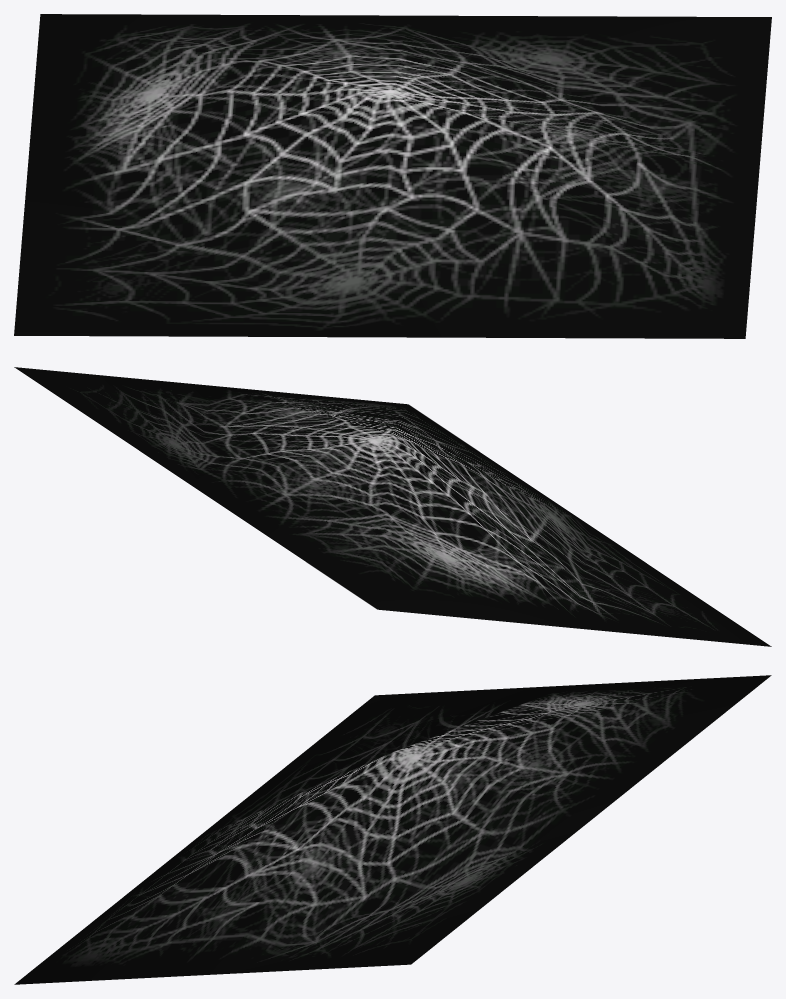
File: MIRKWOOD_PLANE39.fbx
3 views of the same model, one above another, from view 1: azimuth 30°, elevation 25°; view 2: azimuth 150°, elevation 25°; view 3: azimuth 270°, elevation 25° (orthographic). The views are drawn at different scales.
Visible parts, largest first — view 1: MIRKWOOD_PLANE39; view 2: MIRKWOOD_PLANE39; view 3: MIRKWOOD_PLANE39.
Part boxes in pixels (x1=…): MIRKWOOD_PLANE39: x1=14, y1=14, x2=771, y2=338; MIRKWOOD_PLANE39: x1=14, y1=367, x2=771, y2=646; MIRKWOOD_PLANE39: x1=14, y1=675, x2=771, y2=984.
Size of the model in its own units: 200754 by 35679 by 165299.
1 material, 1 textured.
